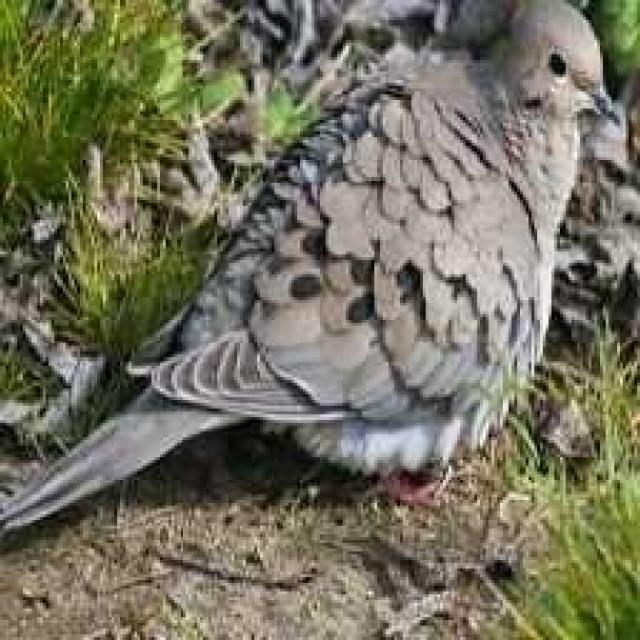bird: (8, 0, 624, 552)
